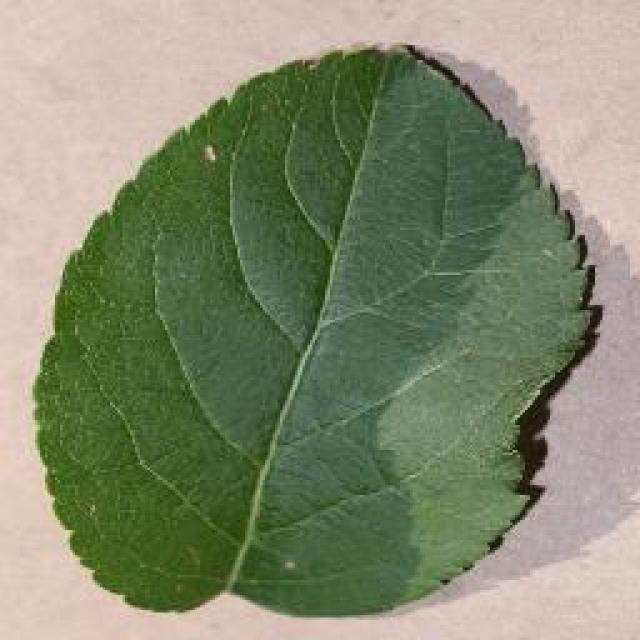apple healthy: (30, 38, 600, 618)
